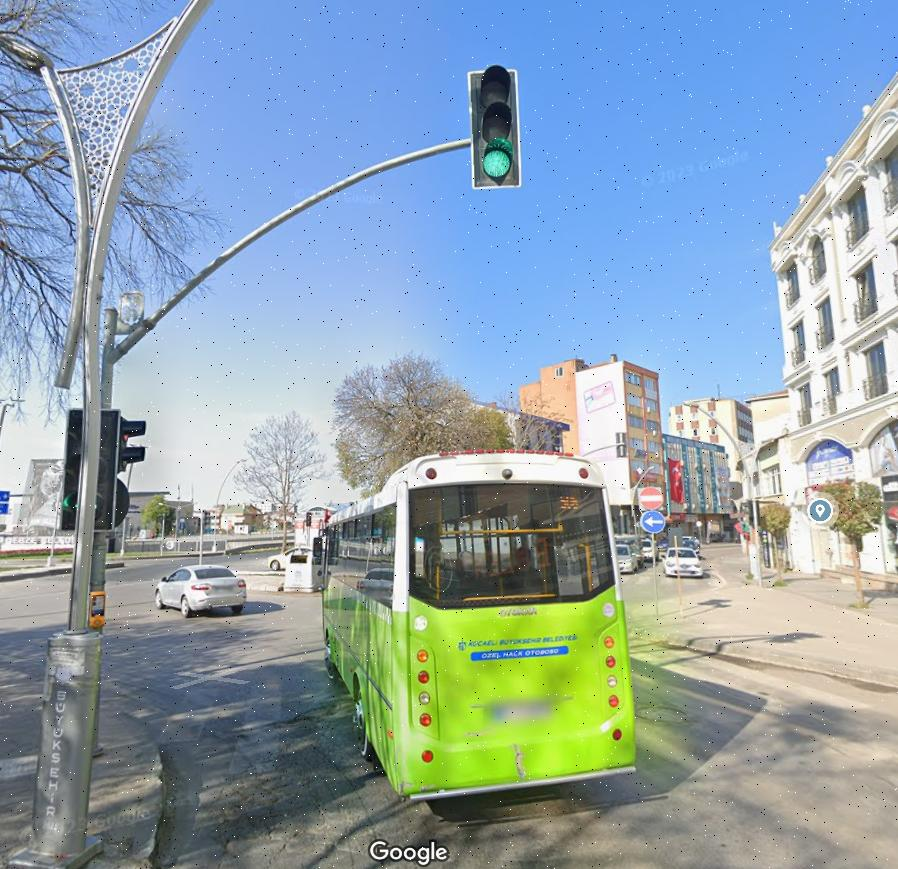greenlight: (463, 63, 528, 196)
